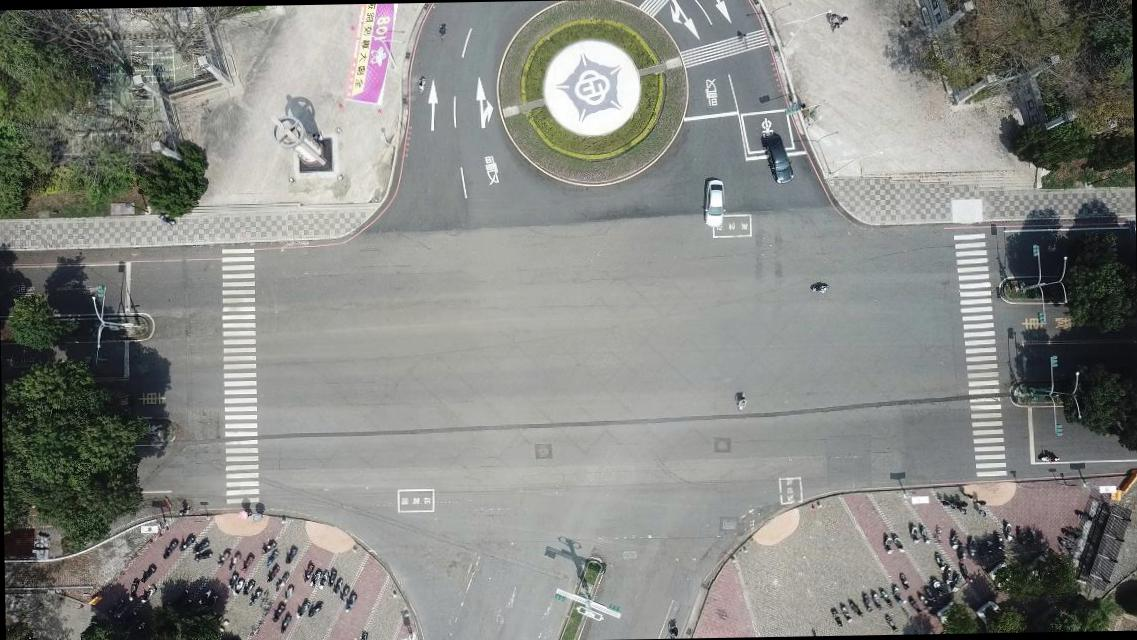vehicle: (762, 132, 794, 182), (702, 180, 724, 227)
